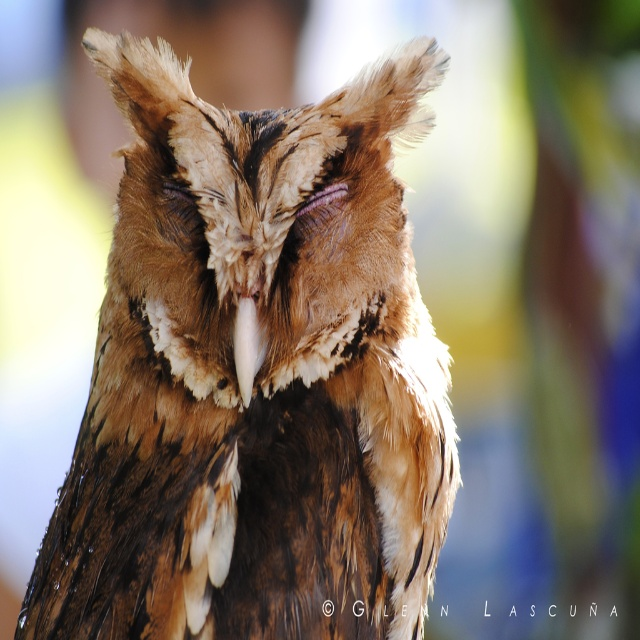Owl: (14, 20, 464, 639)
